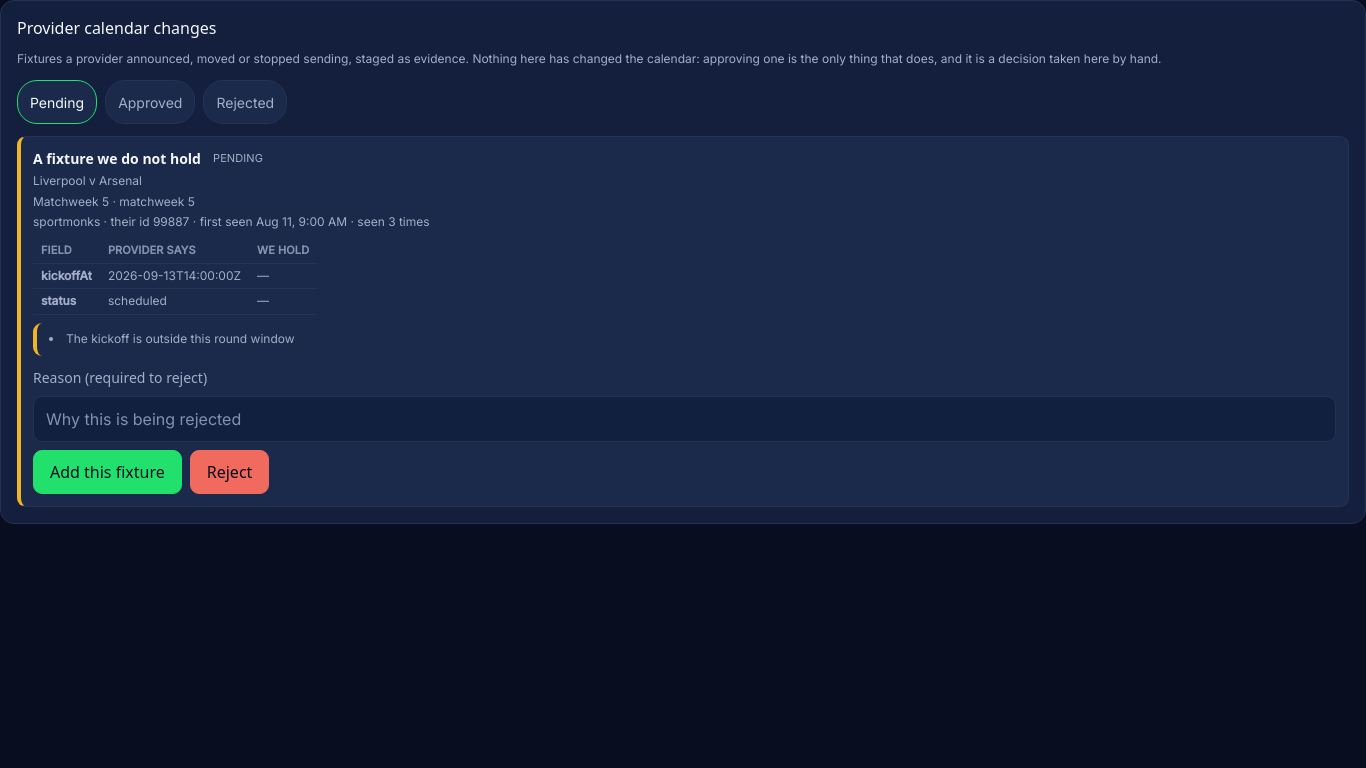
it: ProviderChangePanel › sends the decision and the reason to the server, and reports what it recorded
This screenshot has width=1366, height=768.
Expected: the button "Reject" is shown, [190, 450, 269, 494]
In the field labelled "Reason (required to reject)": (684, 418) [34, 396, 1335, 440], type "Not our fixture"
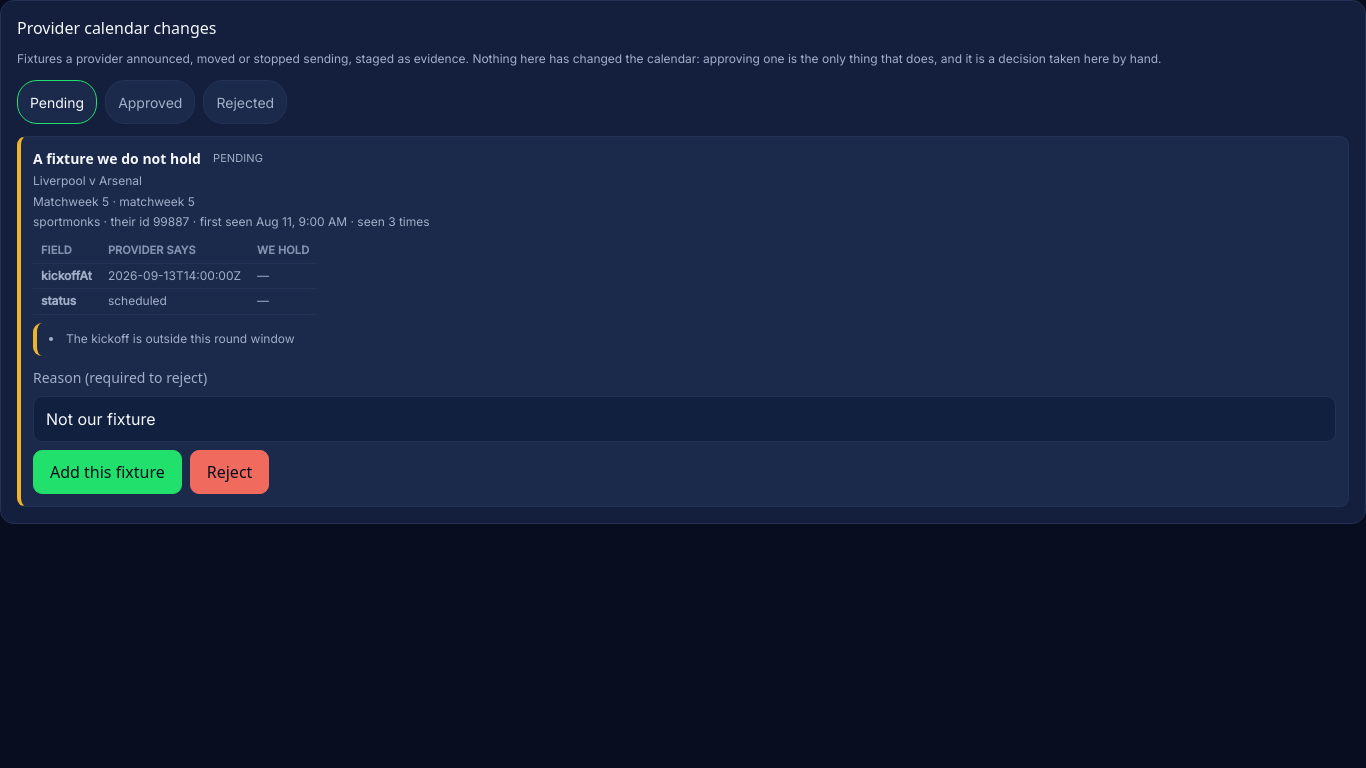
Click the button "Reject": (230, 472) [190, 450, 269, 494]
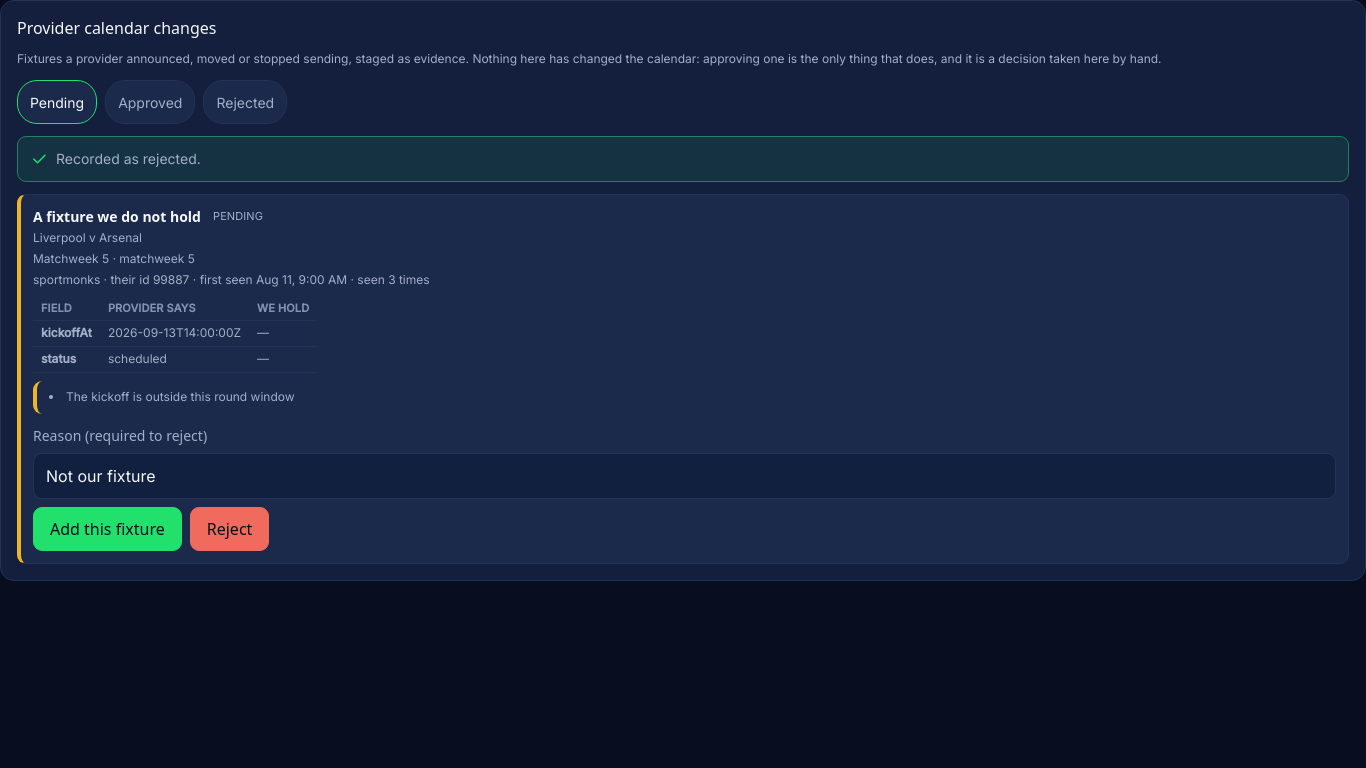
Expected: the text "Recorded as rejected." is shown, [56, 150, 201, 167]
